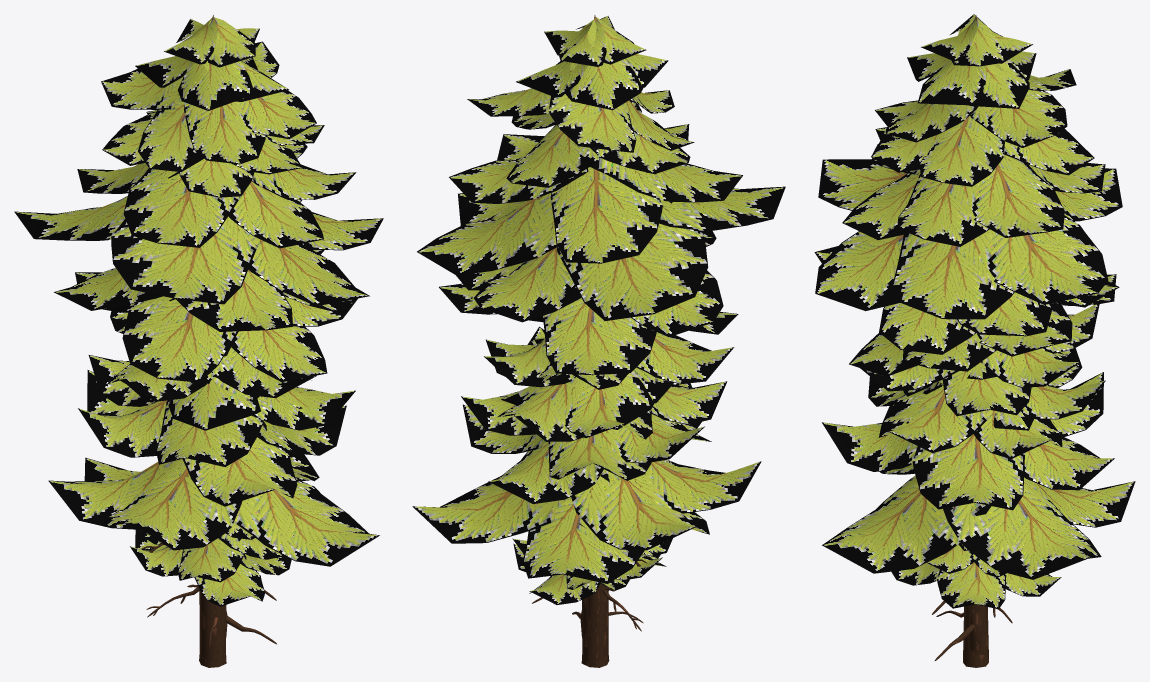
Rendered from pines.glb.
The picture shows the model from 3 angles, left to right: view 1: azimuth 30°, elevation 25°; view 2: azimuth 150°, elevation 25°; view 3: azimuth 270°, elevation 25°; orthographic projection.
Visible parts, largest first — view 1: PineTree_2_Cube.004, PineTree_1_Cube.006, PineTree_3_Cube.008; view 2: PineTree_2_Cube.004, PineTree_1_Cube.006, PineTree_3_Cube.008; view 3: PineTree_2_Cube.004, PineTree_1_Cube.006, PineTree_3_Cube.008.
Boxes of the visible parts, bbox=[...] form: PineTree_2_Cube.004: bbox=[14, 15, 383, 666]; PineTree_1_Cube.006: bbox=[48, 311, 379, 667]; PineTree_3_Cube.008: bbox=[130, 522, 291, 647]; PineTree_2_Cube.004: bbox=[417, 15, 785, 666]; PineTree_1_Cube.006: bbox=[412, 316, 761, 667]; PineTree_3_Cube.008: bbox=[512, 523, 672, 637]; PineTree_2_Cube.004: bbox=[814, 14, 1122, 667]; PineTree_1_Cube.006: bbox=[822, 304, 1135, 655]; PineTree_3_Cube.008: bbox=[891, 489, 1061, 660].
Size of the model in its own units: 3.28 by 6.91 by 3.1.
2 materials, 2 textured.
